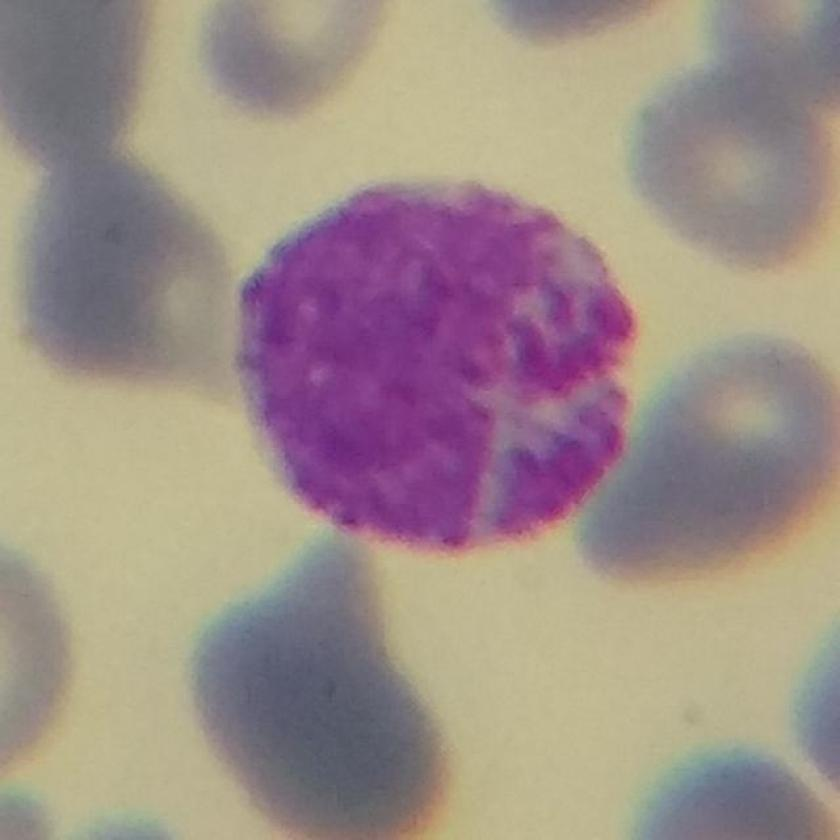basophil: (238, 163, 637, 546)
